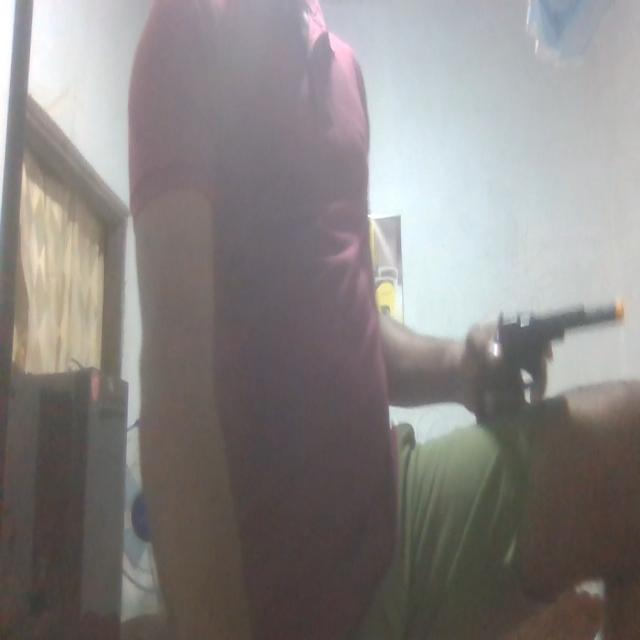Gun_Holder: (449, 288, 633, 434)
Person: (130, 0, 640, 640)
